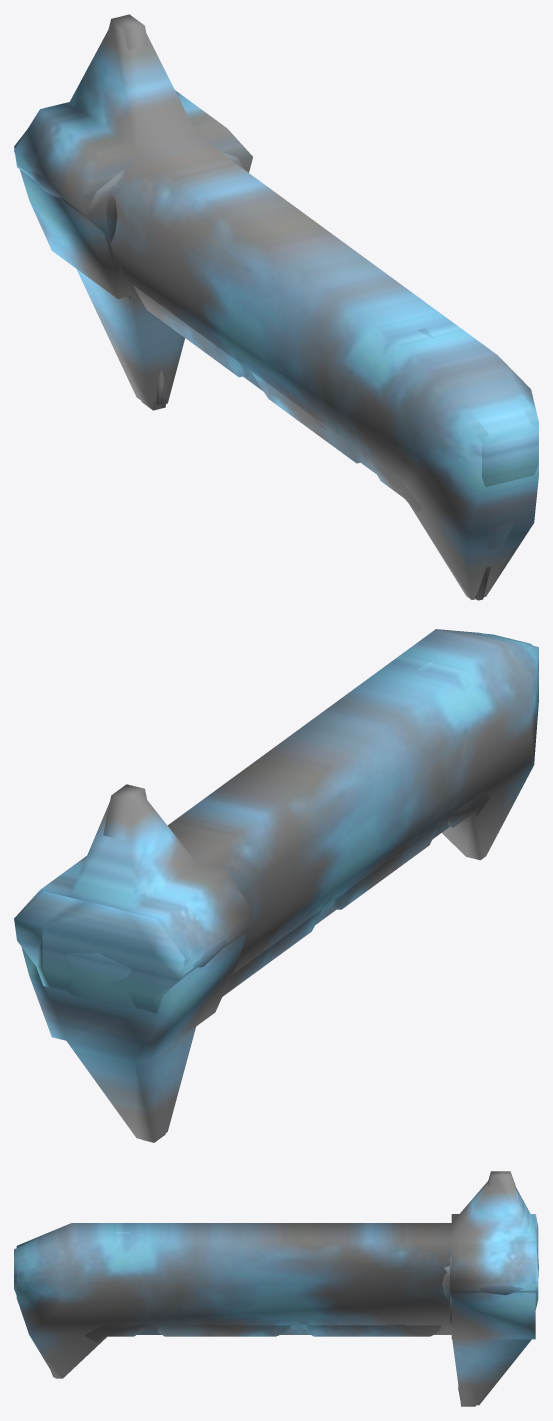
File: clydesdale-shield.obj
The picture shows the model from 3 angles, top to bottom: view 1: azimuth 30°, elevation 25°; view 2: azimuth 150°, elevation 25°; view 3: azimuth 270°, elevation 25°; orthographic projection. The views are drawn at different scales.
Size of the model in its own units: 65.04 by 131 by 270.
